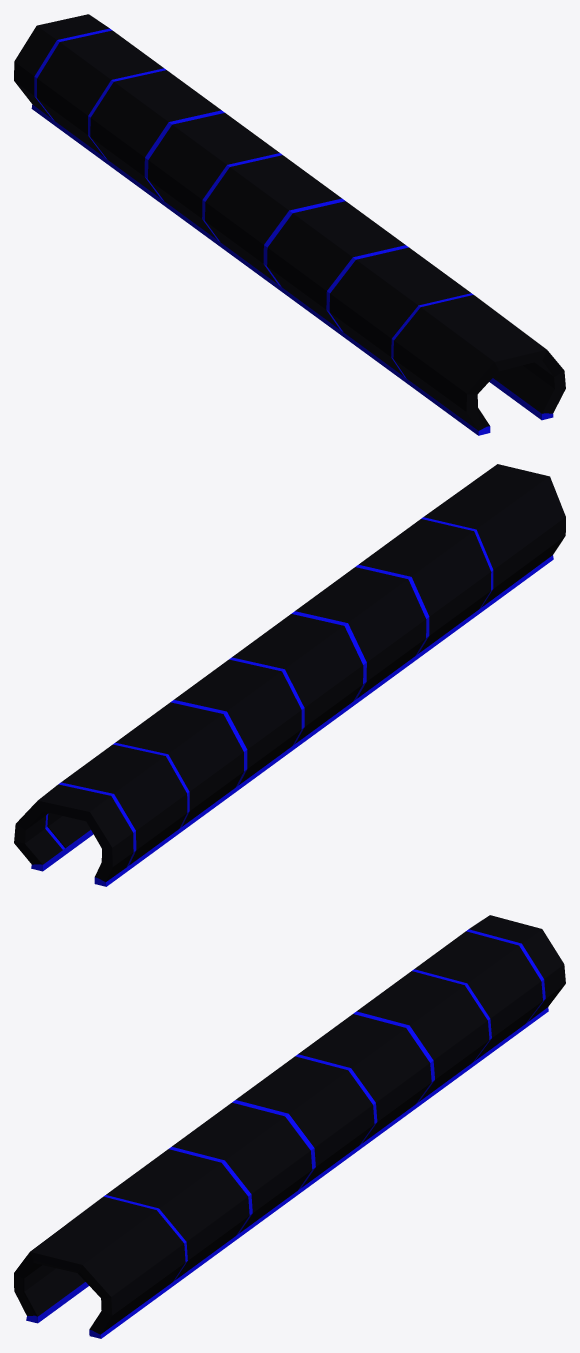
The model's file is Tunel2.obj.
3 renders of one model, top to bottom at view 1: azimuth 30°, elevation 25°; view 2: azimuth 150°, elevation 25°; view 3: azimuth 330°, elevation 25°, orthographic.
Parts seen in each view (by area): view 1: pCube21; view 2: pCube21; view 3: pCube21.
Part boxes in pixels (x1,y1,x2,y2): pCube21: (14,14,565,435); pCube21: (14,464,565,886); pCube21: (14,915,565,1338).
Bounding box in the file's own units: 37.88 × 28.16 × 303.
